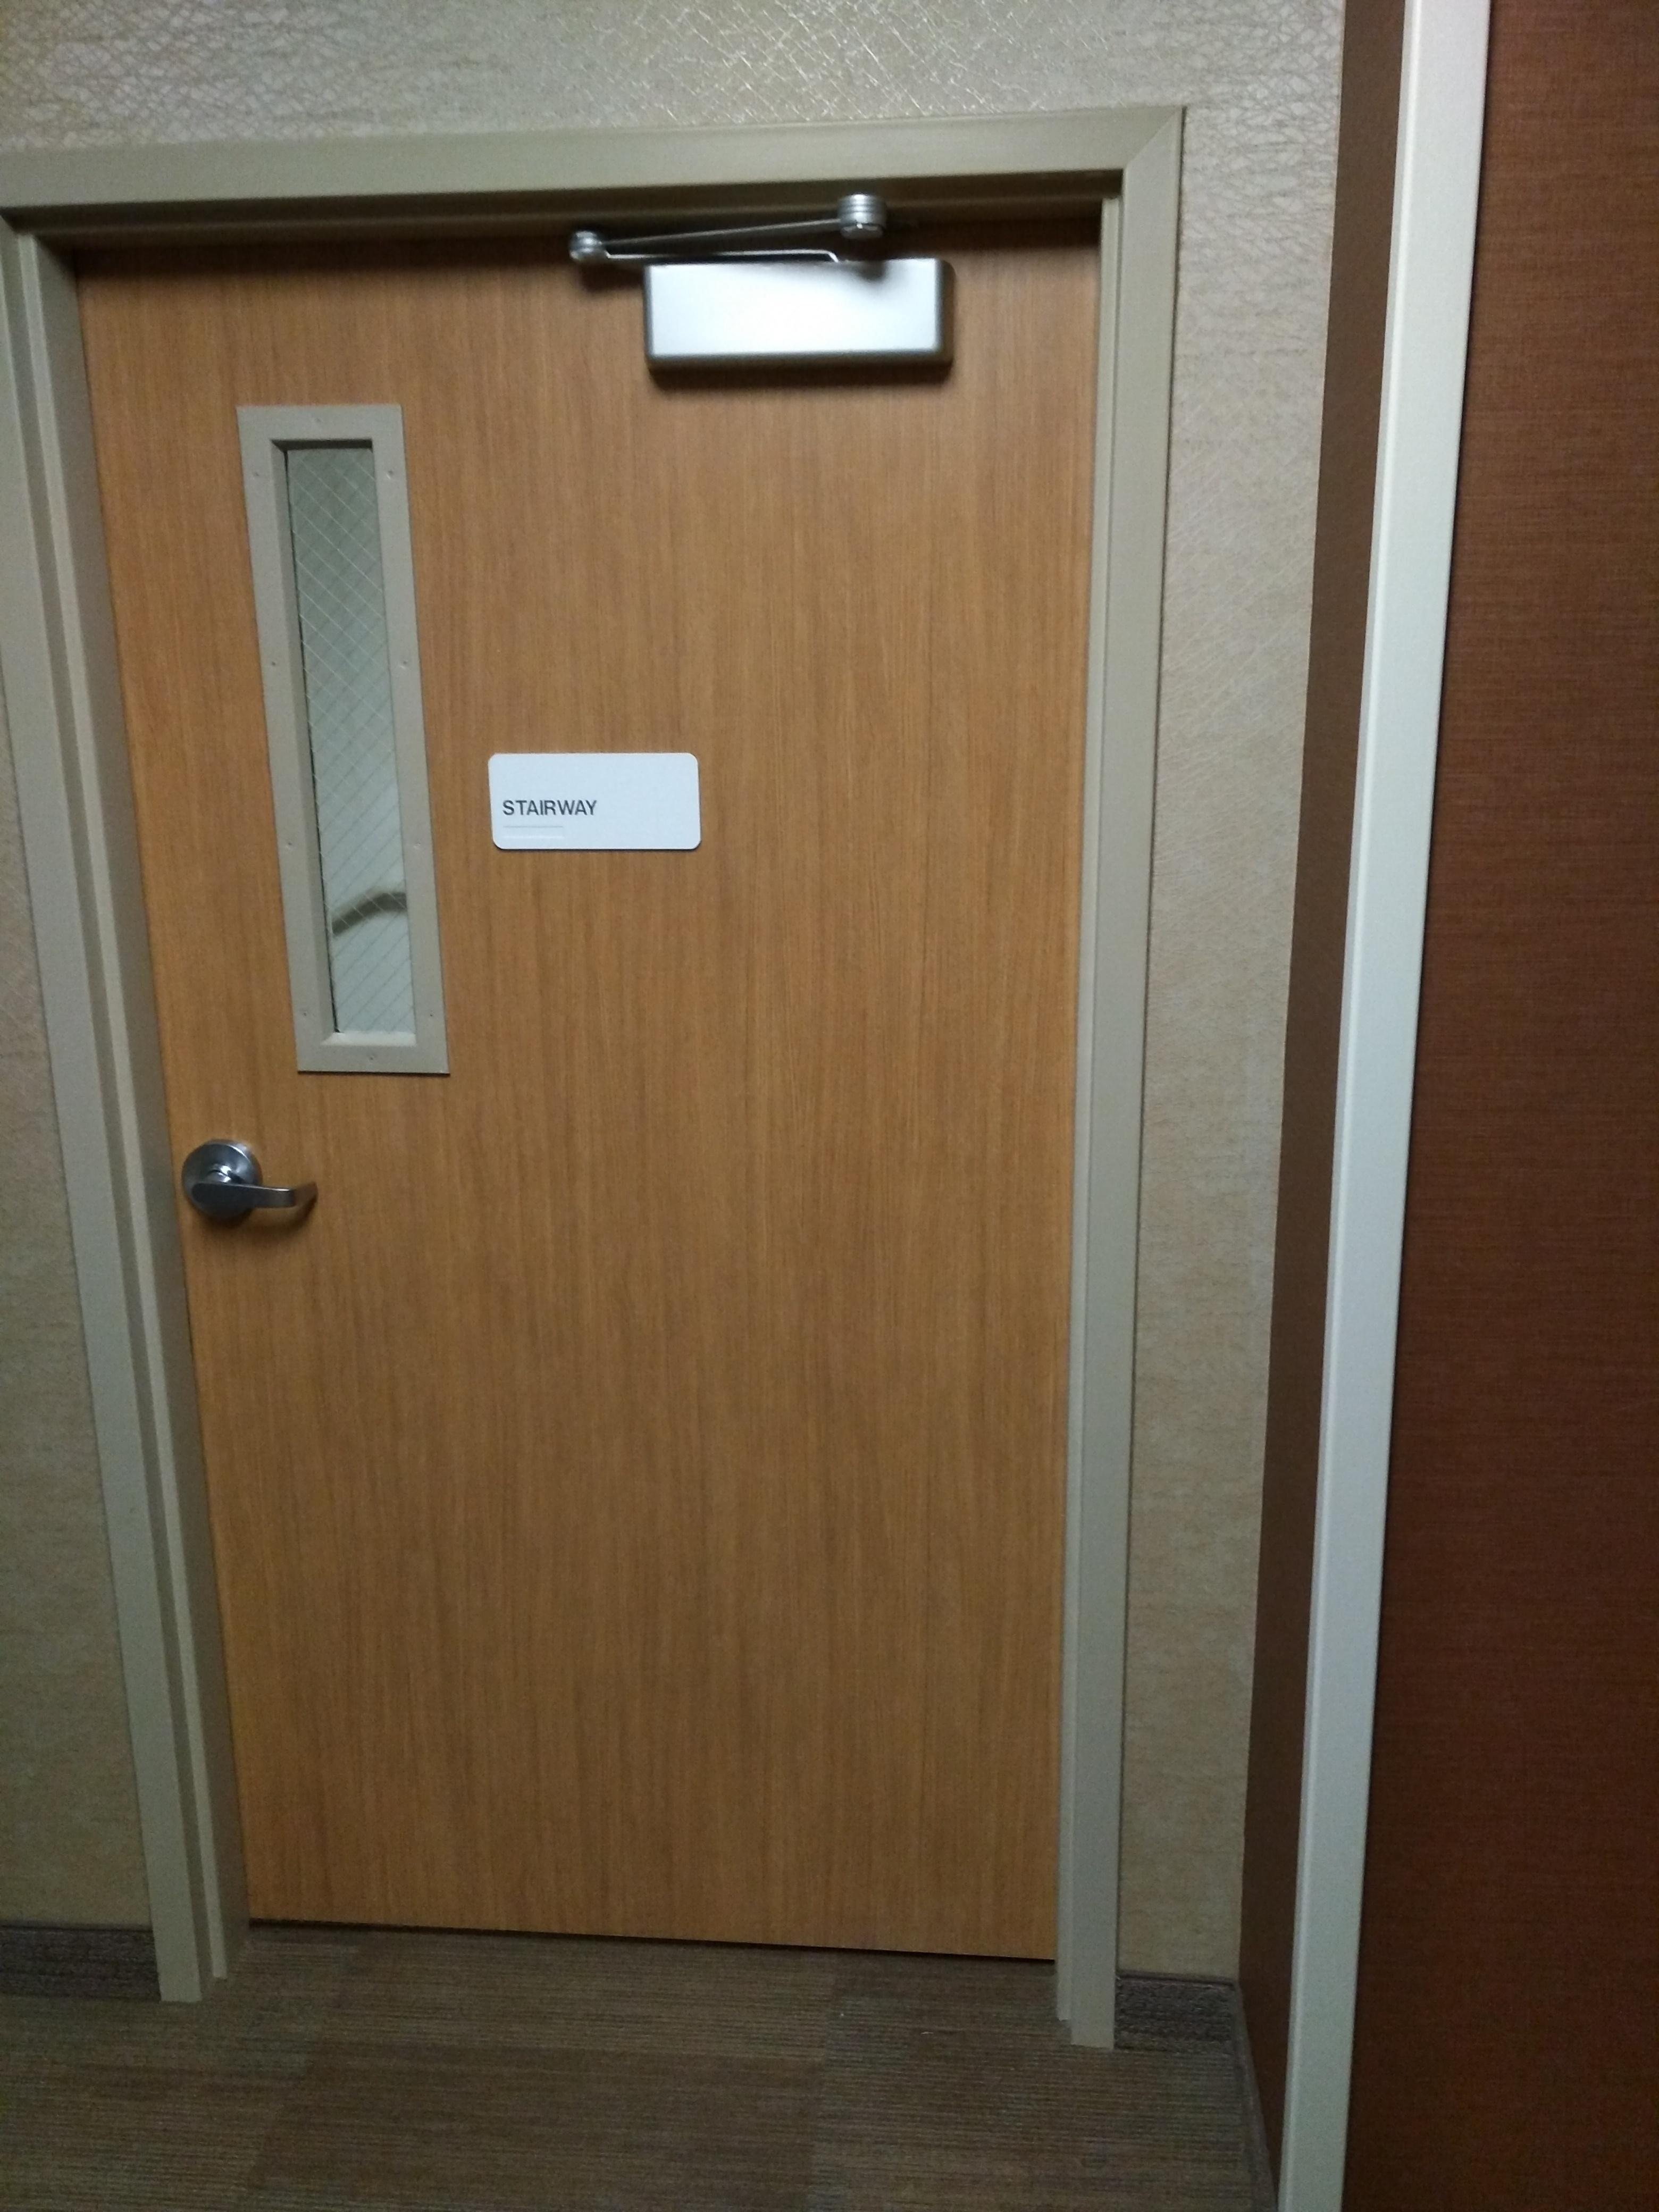door: (68, 172, 1162, 2107)
